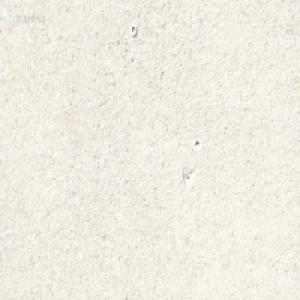Washer: (130, 22, 138, 36)
